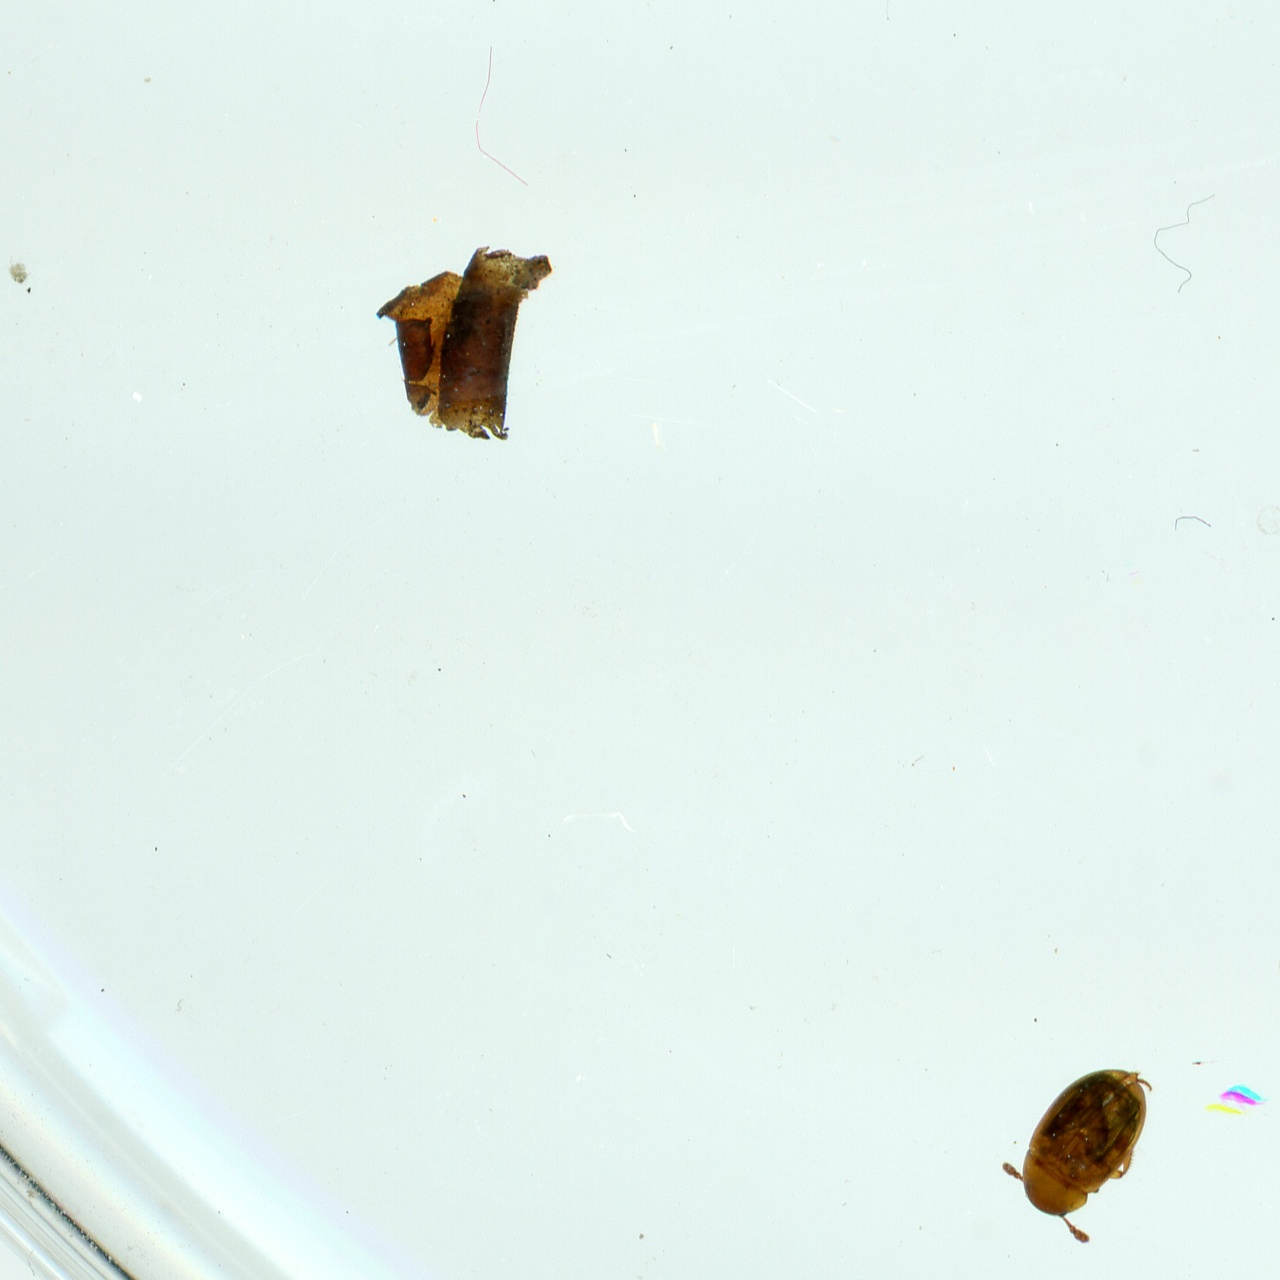arthropod: (1005, 1060, 1157, 1248), (1202, 1084, 1265, 1114)
